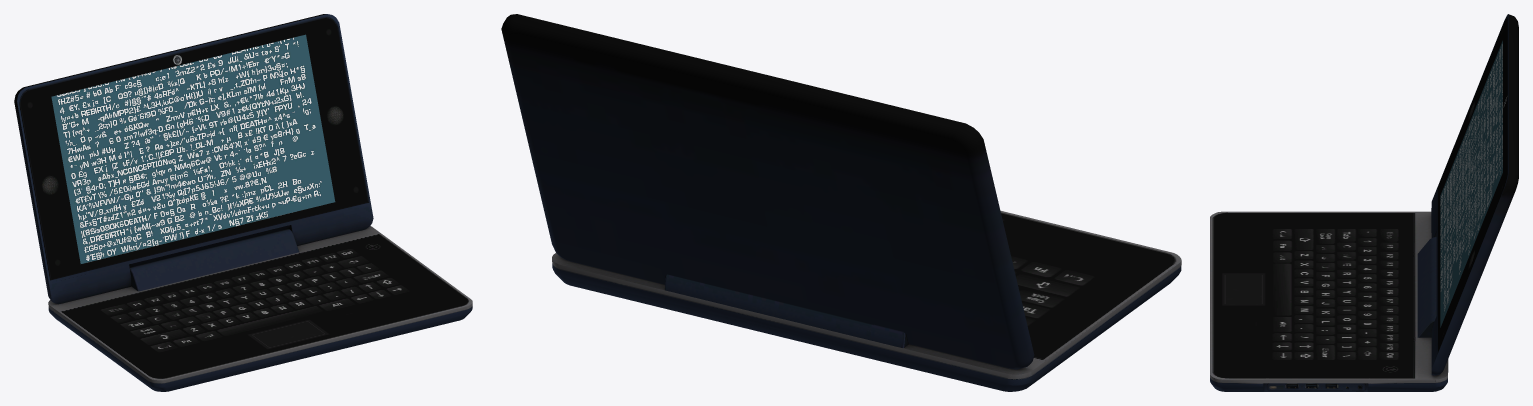
Rendered from laptop_touchscreen_gibberish.dae.
3 views of the same model, side by side, from view 1: azimuth 30°, elevation 25°; view 2: azimuth 150°, elevation 25°; view 3: azimuth 270°, elevation 25° (orthographic). The views are drawn at different scales.
Visible parts, largest first — view 1: polySurface8, screen1; view 2: polySurface8; view 3: polySurface8, screen1.
Boxes of the visible parts, x1,y1,x2,y2 form: polySurface8: (14, 14, 472, 391); screen1: (51, 34, 335, 263); polySurface8: (501, 14, 1181, 391); polySurface8: (1210, 14, 1518, 391); screen1: (1440, 40, 1502, 327).
Bounding box in the file's own units: 0.5086 × 0.3098 × 0.3954.
